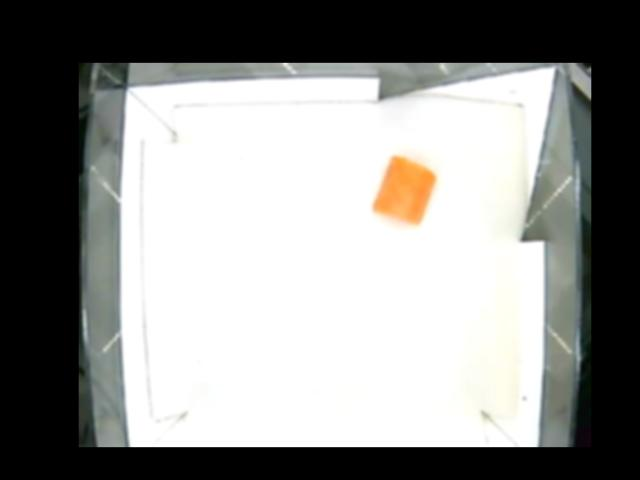Carrot: (371, 155, 435, 226)
